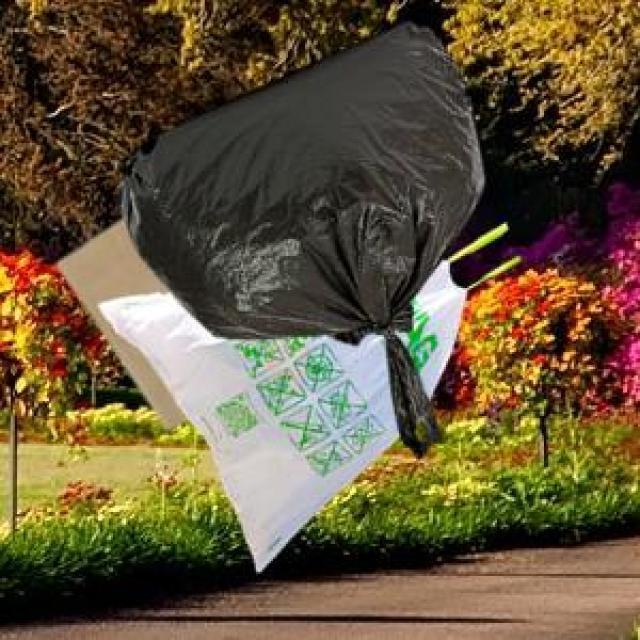miscellaneous trash: (113, 19, 480, 454)
paper: (53, 216, 181, 425)
